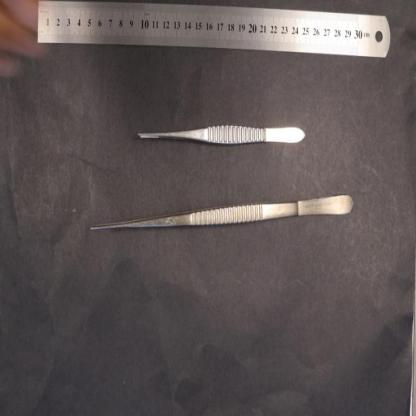DeBakey Dissector: (90, 194, 354, 231)
Gillies Toothed Dissector: (137, 124, 306, 146)
